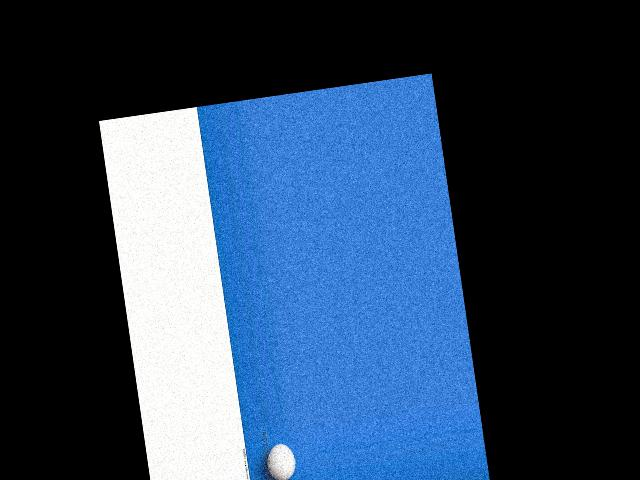egg: (263, 442, 297, 480)
